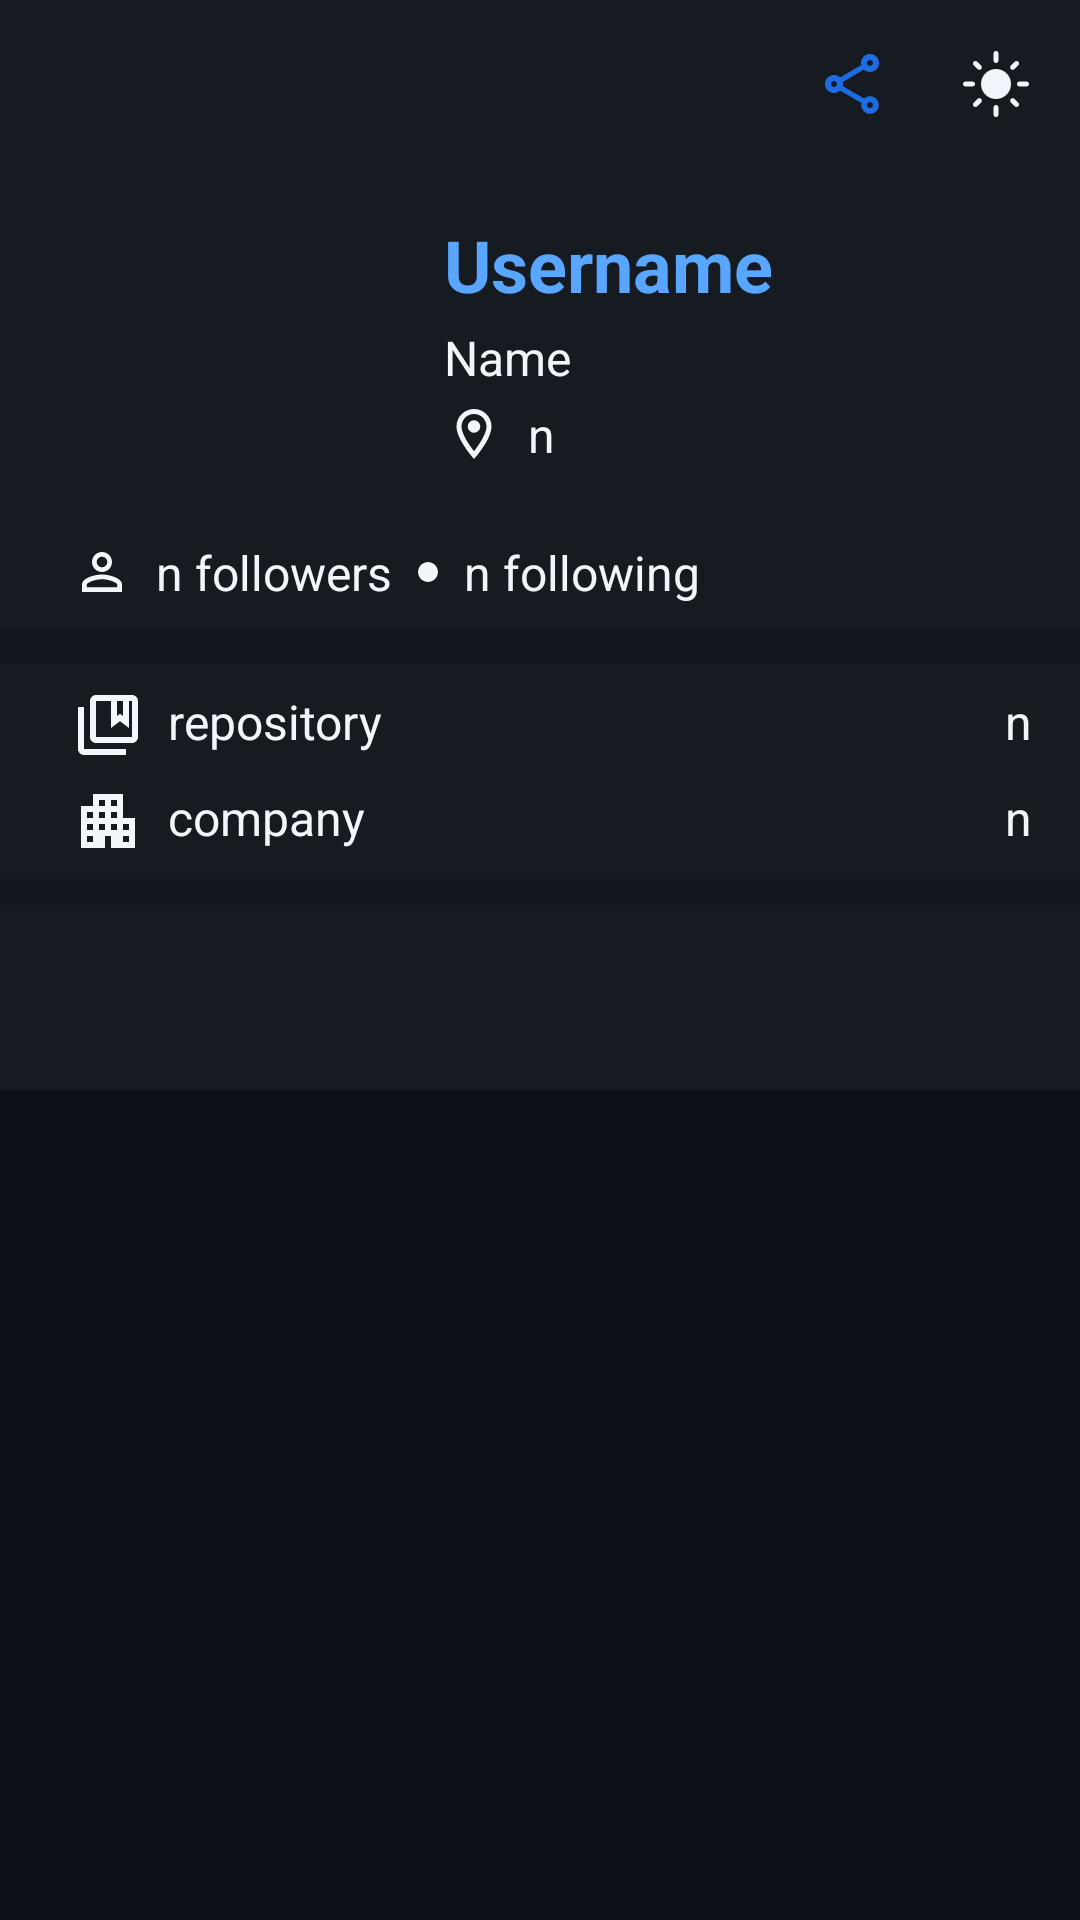

Where to tap for icons on this 1080px×1920px app screen, as point (x, y):
botton Share: point (852, 84)
mode: point (996, 84)
